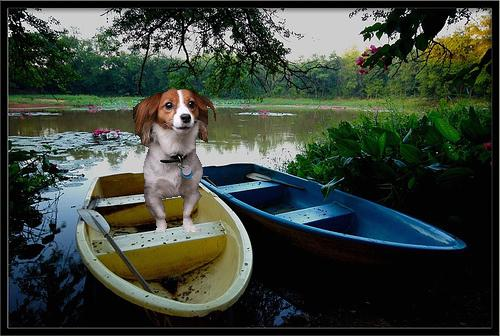tampered: (134, 90, 216, 232)
